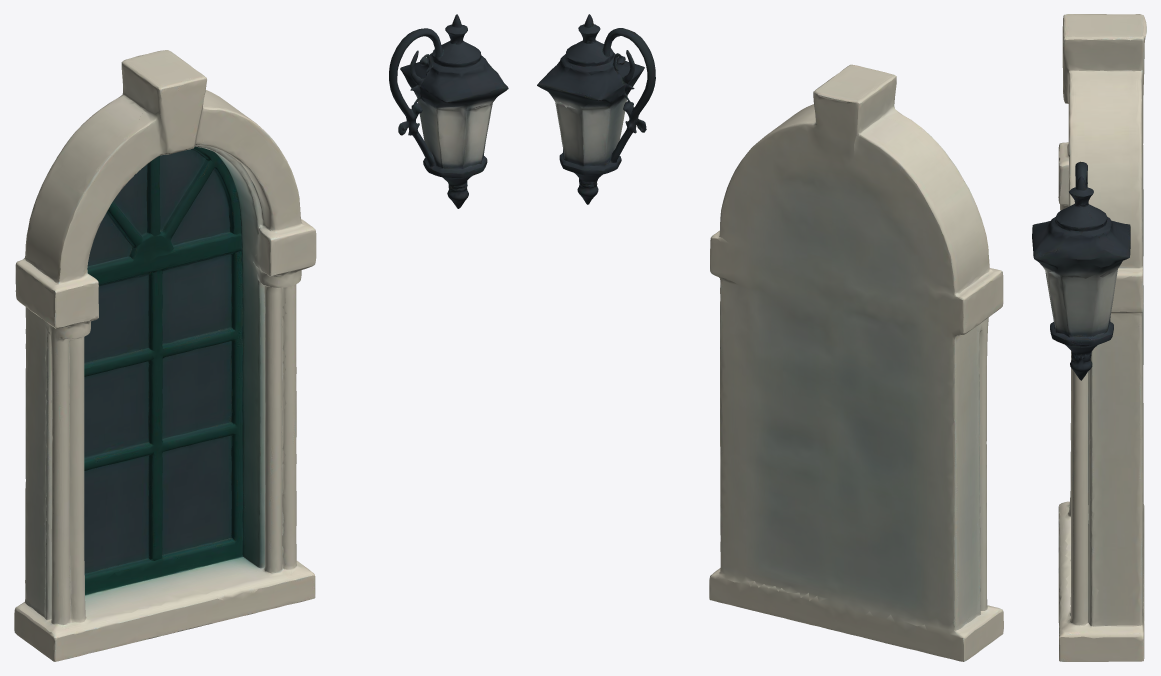
File: bay_victorian.glb
The picture shows the model from 3 angles, left to right: view 1: azimuth 30°, elevation 25°; view 2: azimuth 150°, elevation 25°; view 3: azimuth 270°, elevation 25°; orthographic projection. The views are drawn at different scales.
Visible parts, largest first — view 1: Mesh; view 2: Mesh; view 3: Mesh.
Part boxes in pixels (x1,y1,x2,y2): Mesh: [14, 14, 508, 661]; Mesh: [537, 14, 1003, 661]; Mesh: [1032, 14, 1146, 661].
Size of the model in its own units: 1.61 by 1.89 by 0.3444.
Materials: 1 (1 with a texture image).
